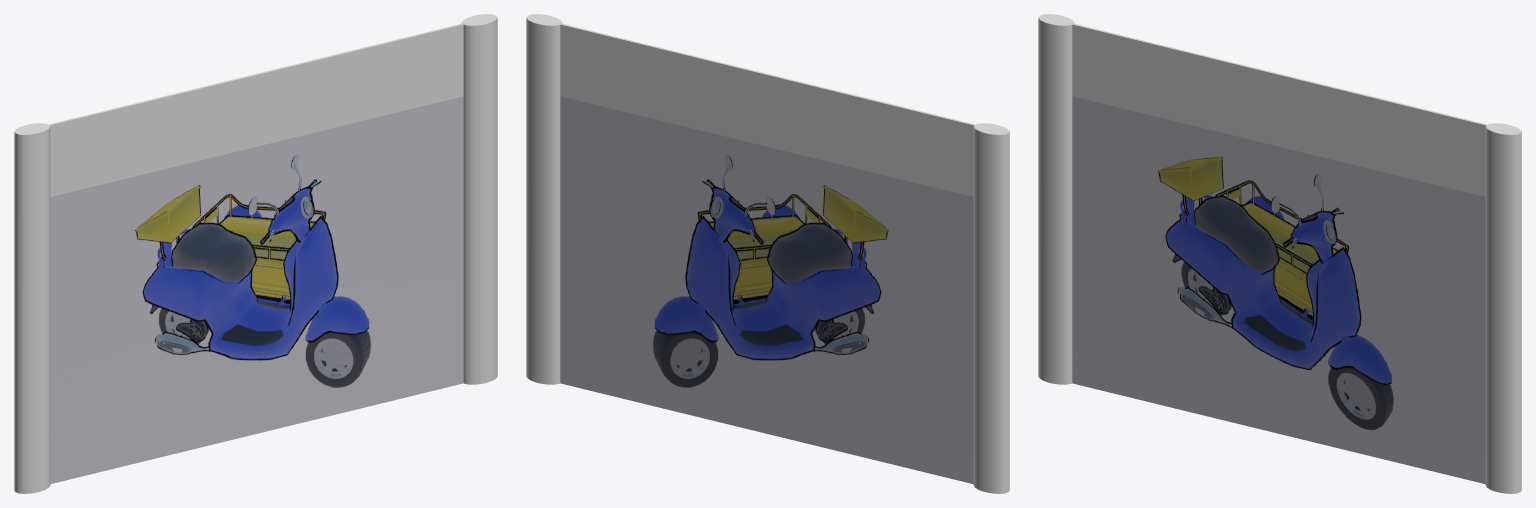
Rendered from image-gate-tricycle.fbx.
3 renders of one model, left to right at view 1: azimuth 30°, elevation 25°; view 2: azimuth 150°, elevation 25°; view 3: azimuth 330°, elevation 25°, orthographic.
Parts seen in each view (by area): view 1: image-gate-tricycle, upper-plane.003, cylinder-R.003, cylinder-L.003; view 2: image-gate-tricycle, upper-plane.003, cylinder-R.003, cylinder-L.003; view 3: image-gate-tricycle, upper-plane.003, cylinder-L.003, cylinder-R.003.
Part boxes in pixels (x1,y1,x2,y2): image-gate-tricycle: (50,96,463,484); upper-plane.003: (40,21,471,196); cylinder-R.003: (14,123,50,493); cylinder-L.003: (461,14,497,384); image-gate-tricycle: (560,96,973,484); upper-plane.003: (552,21,974,196); cylinder-R.003: (973,123,1009,493); cylinder-L.003: (526,14,562,384); image-gate-tricycle: (1072,96,1485,484); upper-plane.003: (1064,21,1495,196); cylinder-L.003: (1485,123,1521,493); cylinder-R.003: (1038,14,1074,384).
Bounding box in the file's own units: 4.36 × 3.11 × 0.183.
